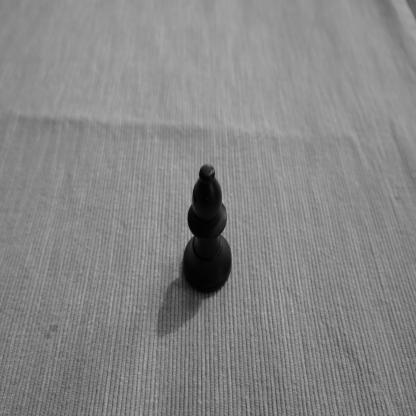black-bishop: (182, 164, 232, 294)
